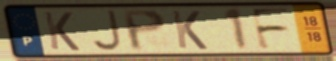1: (223, 7, 249, 53)
F: (248, 7, 293, 52)
J: (89, 9, 124, 53)
K: (169, 9, 210, 51), (41, 10, 82, 52)
P: (120, 8, 169, 53)
